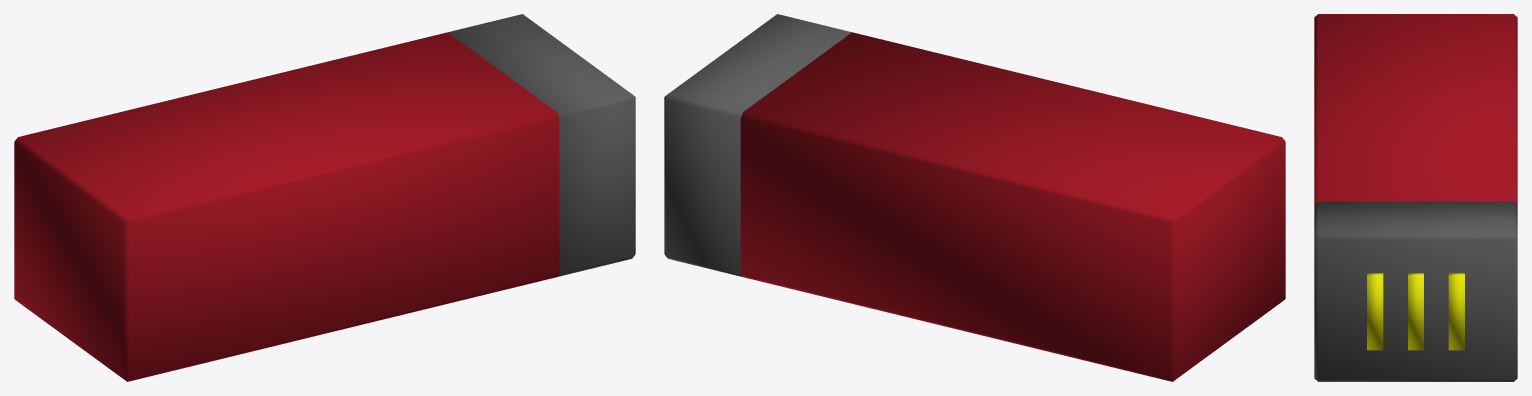
Rendered from battery_red.dae.
3 views of the same model, side by side, from view 1: azimuth 30°, elevation 25°; view 2: azimuth 150°, elevation 25°; view 3: azimuth 270°, elevation 25° (orthographic). The views are drawn at different scales.
Visible parts, largest first — view 1: battery_base; view 2: battery_base; view 3: battery_base.
Part boxes in pixels (box(x1,y1,x2,y2)): battery_base: box(14, 14, 635, 381); battery_base: box(664, 14, 1285, 381); battery_base: box(1314, 14, 1517, 381).
Bounding box in the file's own units: 0.132 × 0.05 × 0.04.
